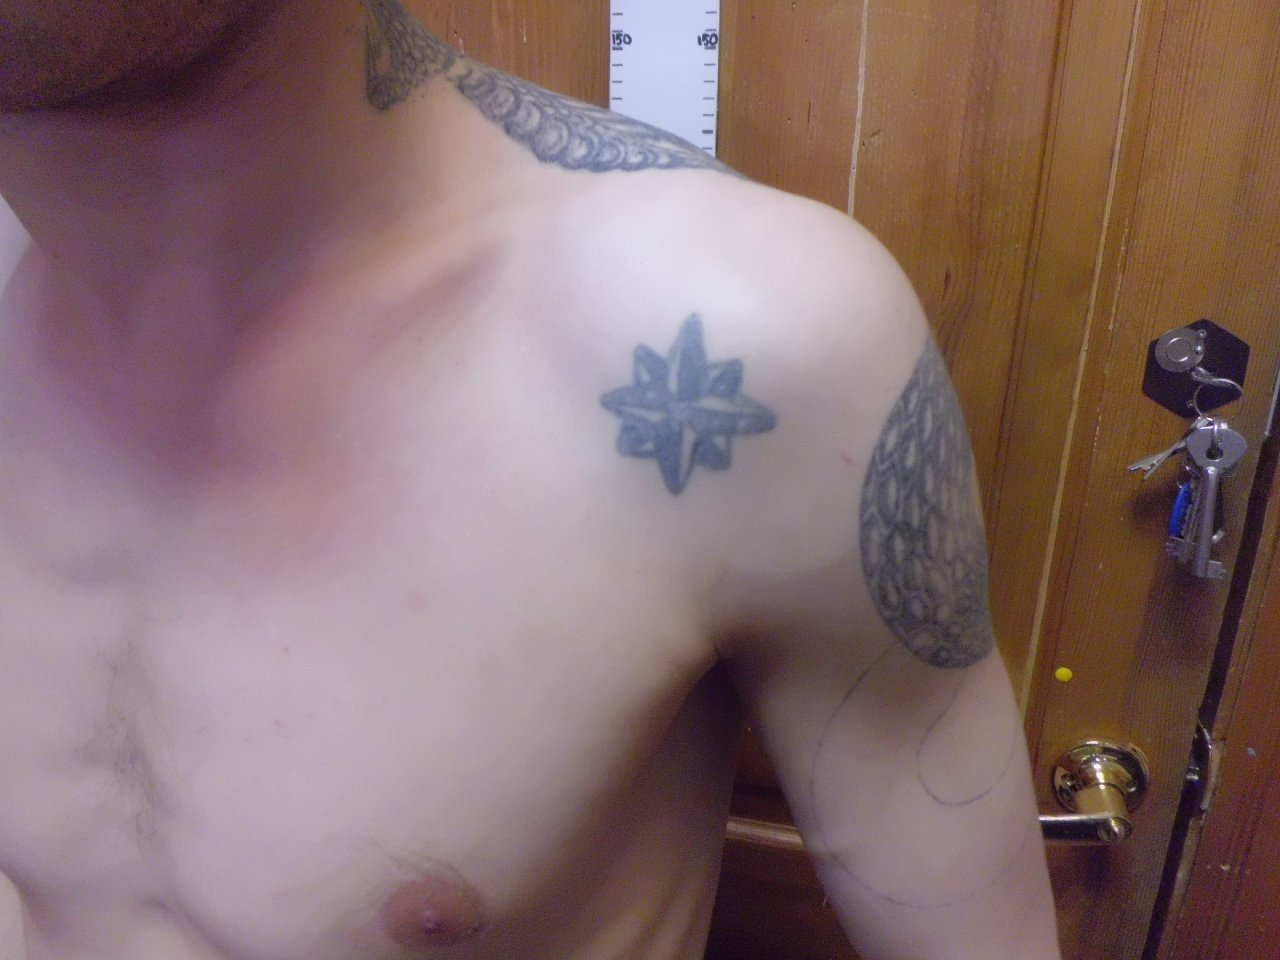tatu4_zvezda: (602, 315, 780, 499)
